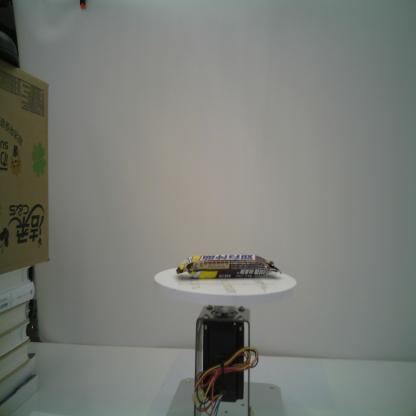Chocolate: (176, 255, 281, 280)
